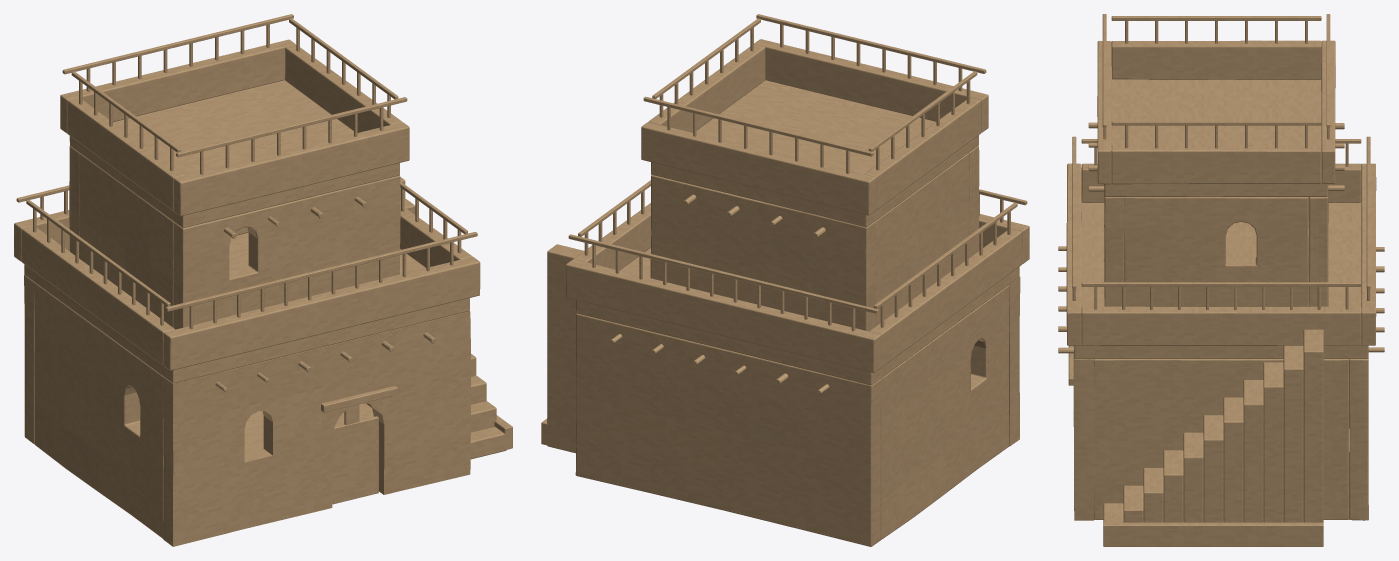
3 views of the same model, side by side, from view 1: azimuth 30°, elevation 25°; view 2: azimuth 150°, elevation 25°; view 3: azimuth 270°, elevation 25° (orthographic).
Visible parts, largest first — view 1: house; view 2: house; view 3: house.
Part boxes in pixels (<box>): house: <box>14,14,512,546</box>; house: <box>541,14,1029,546</box>; house: <box>1058,14,1384,546</box>.
Bounding box in the file's own units: 9.47 × 9.46 × 7.5.
Materials: 1 (1 with a texture image).
